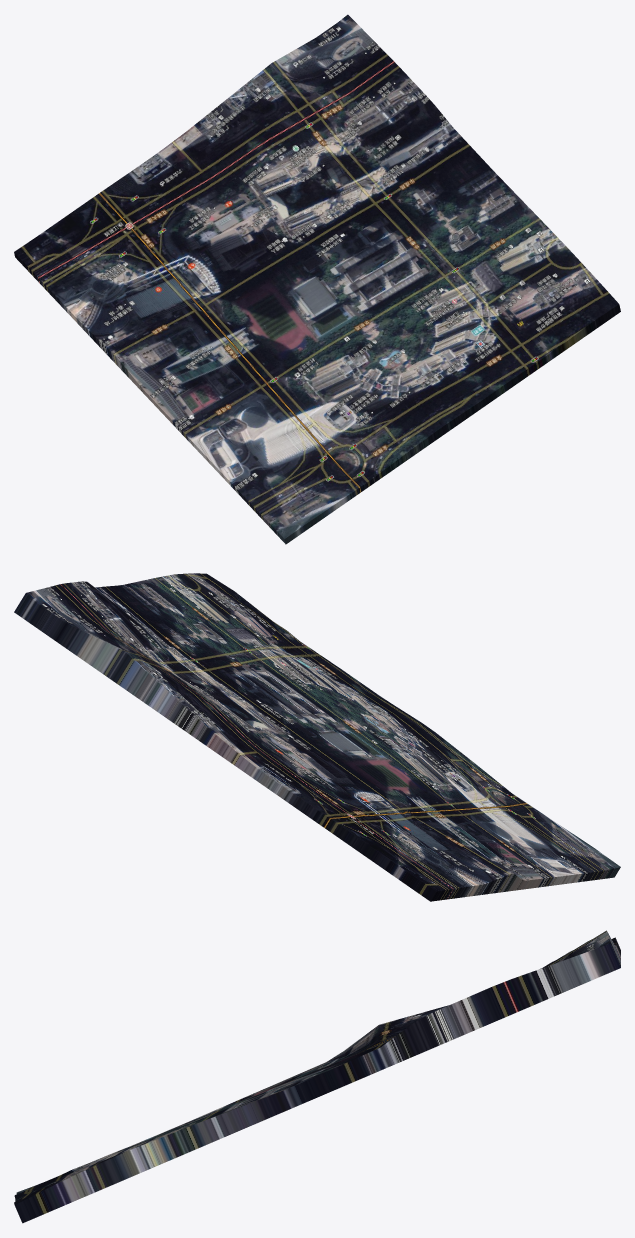
3 renders of one model, top to bottom at view 1: azimuth 30°, elevation 25°; view 2: azimuth 150°, elevation 25°; view 3: azimuth 270°, elevation 25°, orthographic. The views are drawn at different scales.
Parts seen in each view (by area): view 1: 0_10_21; view 2: 0_10_21; view 3: 0_10_21.
Part boxes in pixels (x1=…): 0_10_21: x1=14, y1=14, x2=620, y2=544; 0_10_21: x1=14, y1=573, x2=620, y2=901; 0_10_21: x1=14, y1=930, x2=620, y2=1223.
Bounding box in the file's own units: 597 × 449 × 550.
Materials: 1 (1 with a texture image).
